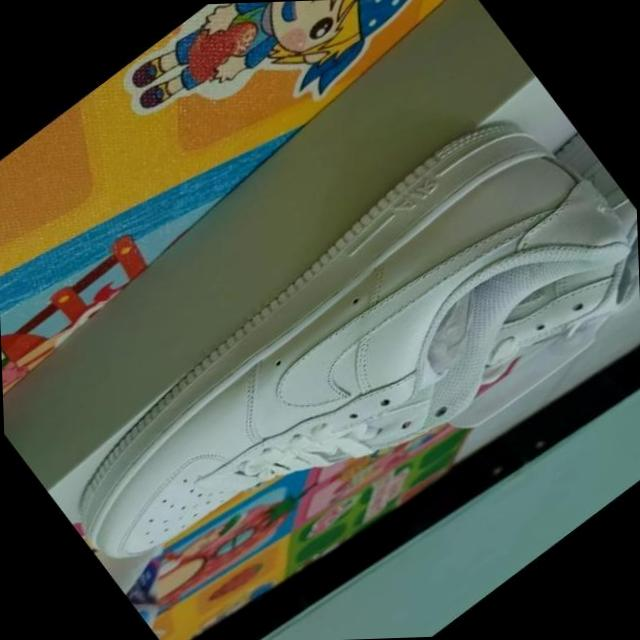nike_original_airforce: (17, 73, 640, 640)
